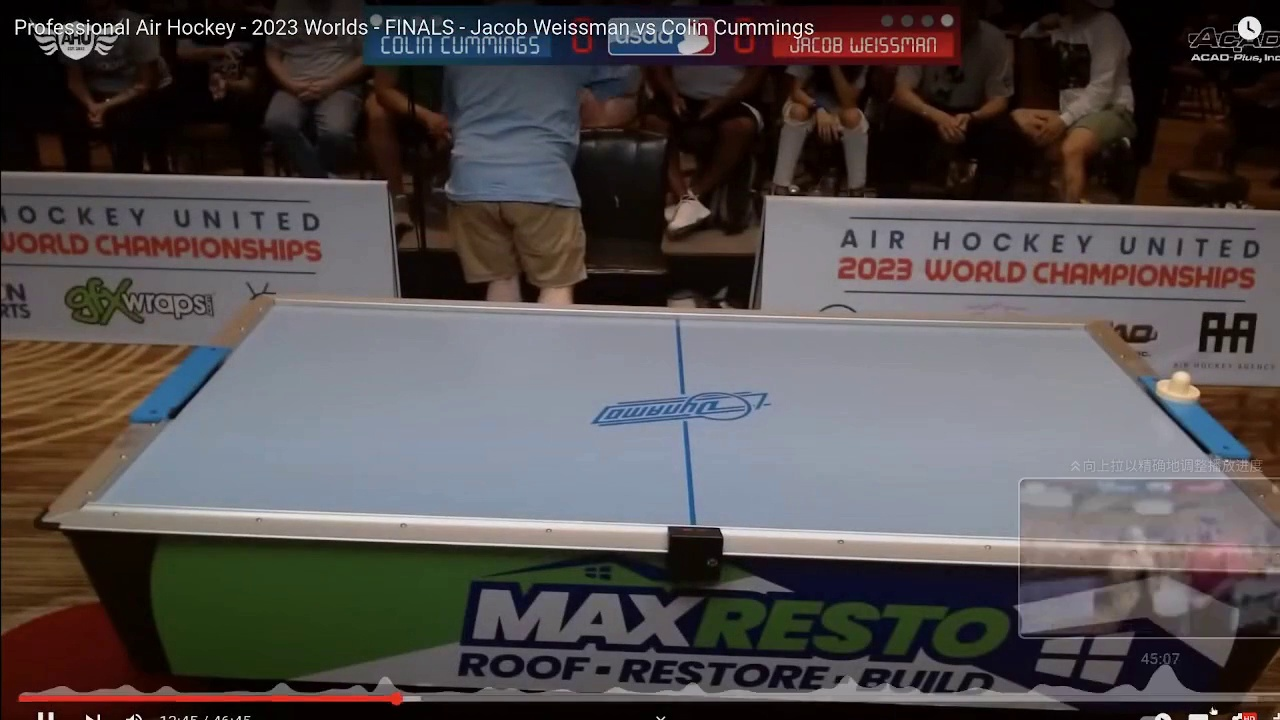player: (1157, 367, 1201, 404)
table: (23, 293, 1280, 554)
